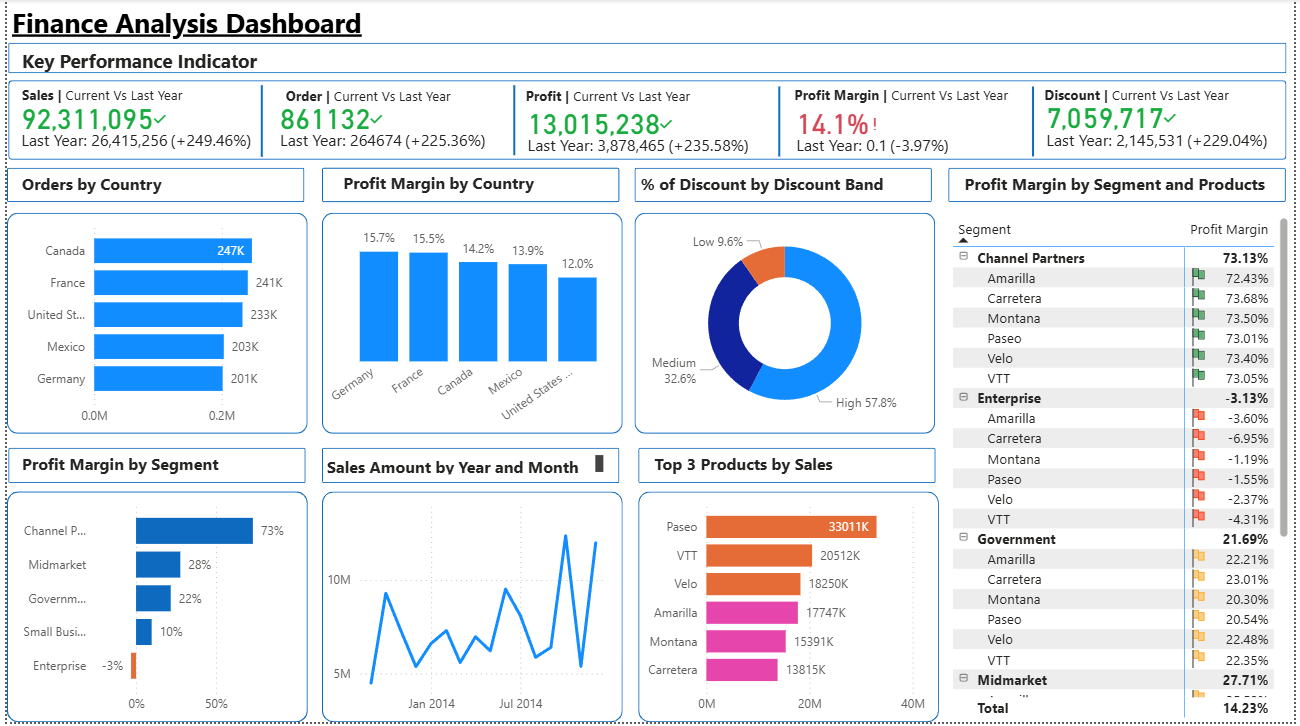

The page's visual inventory and layout, read from the dashboard file:
{"tool":"powerbi","page":{"name":"Finance Analysis Dashboard","canvas":[1280,720],"ordinal":0},"visuals":[{"type":"shape","box":[1.2,44,1271.7,30.6],"z":0},{"type":"shape","box":[1.2,80.7,1271.7,79.5],"z":1000},{"type":"shape","box":[0,212.8,299.6,220.1],"z":2000},{"type":"shape","box":[0,490.4,299.6,229.9],"z":3000},{"type":"shape","box":[313,212.8,299.6,220.1],"z":4000},{"type":"shape","box":[624.9,212.8,299.6,220.1],"z":5000},{"type":"shape","box":[0,490.4,299.6,229.9],"z":6000},{"type":"shape","box":[313,490.4,299.6,229.9],"z":7000},{"type":"shape","box":[628.5,490.4,299.6,229.9],"z":8000},{"type":"shape","box":[0,167.5,295.9,34.2],"z":9000},{"type":"shape","box":[624.9,167.5,295.9,34.2],"z":10000},{"type":"shape","box":[313,167.5,295.9,34.2],"z":11000},{"type":"shape","box":[1.2,446.3,295.9,35.5],"z":12000},{"type":"shape","box":[313,446.3,295.9,35.5],"z":13000},{"type":"shape","box":[628.5,446.3,295.9,35.5],"z":14000},{"type":"shape","box":[936.7,167.5,336.3,34.2],"z":15000},{"type":"textbox","box":[0,0,538,66],"z":16000},{"type":"kpi","fields":{"Indicator":["Ananlysis.Sales Amount"],"TrendLine":["Date Table.Year"],"Goal":["Ananlysis.Sales Amount LY"]},"box":[1,105,252,51],"z":17000},{"type":"textbox","box":[9.8,80.7,187.1,40.4],"z":18000},{"type":"shape","box":[247,85.6,12.2,70.9],"z":19000},{"type":"kpi","fields":{"TrendLine":["Date Table.Year"],"Goal":["Ananlysis.Discounts offered LY"],"Indicator":["Ananlysis.Discount offered"]},"box":[1021,103,242,53],"z":20000},{"type":"kpi","fields":{"TrendLine":["Date Table.Year"],"Goal":["Ananlysis.Profits Margin LY"],"Indicator":["Ananlysis.Profit Margin"]},"box":[773,113,233,43],"z":21000},{"type":"kpi","fields":{"TrendLine":["Date Table.Year"],"Goal":["Ananlysis.Profits LY"],"Indicator":["Ananlysis.Profits"]},"box":[505,113,252,43],"z":22000},{"type":"kpi","fields":{"TrendLine":["Date Table.Year"],"Goal":["Ananlysis.Orders LY"],"Indicator":["Ananlysis.Orders"]},"box":[259,105,240,51],"z":23000},{"type":"shape","box":[1015,86.8,12.2,69.7],"z":24000},{"type":"shape","box":[763,86.8,12.2,69.7],"z":25000},{"type":"shape","box":[498.9,85.6,12.2,69.7],"z":26000},{"type":"textbox","box":[272.7,81.9,199.3,46.5],"z":27000},{"type":"textbox","box":[511.1,81.9,196.9,40.4],"z":28000},{"type":"textbox","box":[778.9,80.7,236,47.7],"z":29000},{"type":"textbox","box":[1027.2,80.7,221.3,47.7],"z":30000},{"type":"barChart","fields":{"Category":["financials.Country"],"Y":["Ananlysis.Orders"]},"box":[0,212.8,297.1,220.1],"z":31000},{"type":"textbox","box":[9.8,44,342.4,42.8],"z":32000},{"type":"textbox","box":[9.8,167.5,187.1,34.2],"z":33000},{"type":"clusteredColumnChart","fields":{"Y":["Ananlysis.Profit Margin"],"Category":["financials.Country"]},"box":[313,212.8,299.6,220.1],"z":34000},{"type":"textbox","box":[330.2,166.3,232.3,35.5],"z":35000},{"type":"donutChart","fields":{"Category":["financials.Discount Band"],"Y":["Ananlysis.Discount offered"]},"box":[624.9,212.8,299.6,220.1],"z":36000},{"type":"textbox","box":[626.1,167.5,300.8,39.1],"z":37000},{"type":"barChart","fields":{"Category":["financials.Segment"],"Y":["Ananlysis.Profit Margin"]},"box":[0,490.4,299.6,229.9],"z":38000},{"type":"lineChart","fields":{"Category":["Date Table.Date.Variation.Date Hierarchy.Year","Date Table.Date.Variation.Date Hierarchy.Month"],"Y":["Ananlysis.Sales Amount"]},"box":[313,490.4,299.6,229.9],"z":39000},{"type":"clusteredBarChart","fields":{"Category":["financials.Product"],"Y":["Ananlysis.Sales Amount"]},"box":[628.5,490.4,299.6,229.9],"z":40000},{"type":"textbox","box":[9.8,446.3,221.3,31.8],"z":41000},{"type":"textbox","box":[313,448.8,284.9,29.3],"z":42000},{"type":"textbox","box":[639.5,446.3,221.3,31.8],"z":43000},{"type":"pivotTable","fields":{"Rows":["financials.Segment","financials.Product"],"Values":["Ananlysis.Profit Margin"]},"box":[936.7,212.8,343.6,507.5],"z":44000},{"type":"textbox","box":[947.7,167.5,325.3,39.1],"z":45000}]}

Visuals, with their boxes in screenshot pixels (x1, y1, x2, y2), scaled from the page's 1280x720 canvas onto the 1300x726 screenshot:
shape: 1, 44, 1293, 75
shape: 1, 81, 1293, 162
shape: 0, 215, 304, 437
shape: 0, 494, 304, 725
shape: 318, 215, 622, 437
shape: 635, 215, 939, 437
shape: 0, 494, 304, 725
shape: 318, 494, 622, 725
shape: 638, 494, 943, 725
shape: 0, 169, 301, 203
shape: 635, 169, 935, 203
shape: 318, 169, 618, 203
shape: 1, 450, 302, 486
shape: 318, 450, 618, 486
shape: 638, 450, 939, 486
shape: 951, 169, 1293, 203
textbox: 0, 0, 546, 67
kpi - Ananlysis.Sales Amount x Date Table.Year: 1, 106, 257, 157
textbox: 10, 81, 200, 122
shape: 251, 86, 263, 158
kpi - Date Table.Year x Ananlysis.Discounts offered LY: 1037, 104, 1283, 157
kpi - Date Table.Year x Ananlysis.Profits Margin LY: 785, 114, 1022, 157
kpi - Date Table.Year x Ananlysis.Profits LY: 513, 114, 769, 157
kpi - Date Table.Year x Ananlysis.Orders LY: 263, 106, 507, 157
shape: 1031, 88, 1043, 158
shape: 775, 88, 787, 158
shape: 507, 86, 519, 157
textbox: 277, 83, 479, 129
textbox: 519, 83, 719, 123
textbox: 791, 81, 1031, 129
textbox: 1043, 81, 1268, 129
barChart - financials.Country x Ananlysis.Orders: 0, 215, 302, 437
textbox: 10, 44, 358, 88
textbox: 10, 169, 200, 203
clusteredColumnChart - Ananlysis.Profit Margin x financials.Country: 318, 215, 622, 437
textbox: 335, 168, 571, 203
donutChart - financials.Discount Band x Ananlysis.Discount offered: 635, 215, 939, 437
textbox: 636, 169, 941, 208
barChart - financials.Segment x Ananlysis.Profit Margin: 0, 494, 304, 725
lineChart - Date Table.Date.Variation.Date Hierarchy.Year x Date Table.Date.Variation.Date Hierarchy.Month: 318, 494, 622, 725
clusteredBarChart - financials.Product x Ananlysis.Sales Amount: 638, 494, 943, 725
textbox: 10, 450, 235, 482
textbox: 318, 453, 607, 482
textbox: 649, 450, 874, 482
pivotTable - financials.Segment x financials.Product: 951, 215, 1299, 725
textbox: 963, 169, 1293, 208
